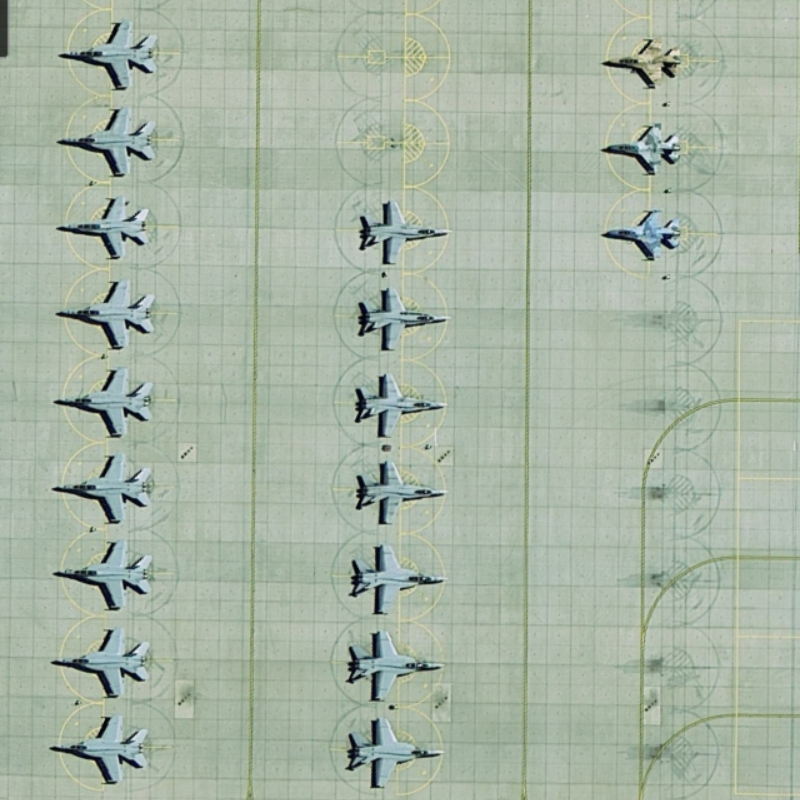A16: (43, 619, 157, 704), (41, 445, 156, 529), (49, 272, 163, 356), (338, 624, 452, 707), (40, 362, 159, 441), (339, 705, 446, 791), (55, 15, 170, 95), (47, 103, 165, 179), (46, 537, 157, 616), (346, 538, 451, 618), (47, 710, 154, 787), (350, 277, 451, 358), (52, 189, 157, 265), (349, 452, 449, 528), (350, 368, 449, 441), (354, 197, 451, 268)
A5: (593, 201, 684, 266), (596, 118, 687, 182), (597, 29, 687, 91)
